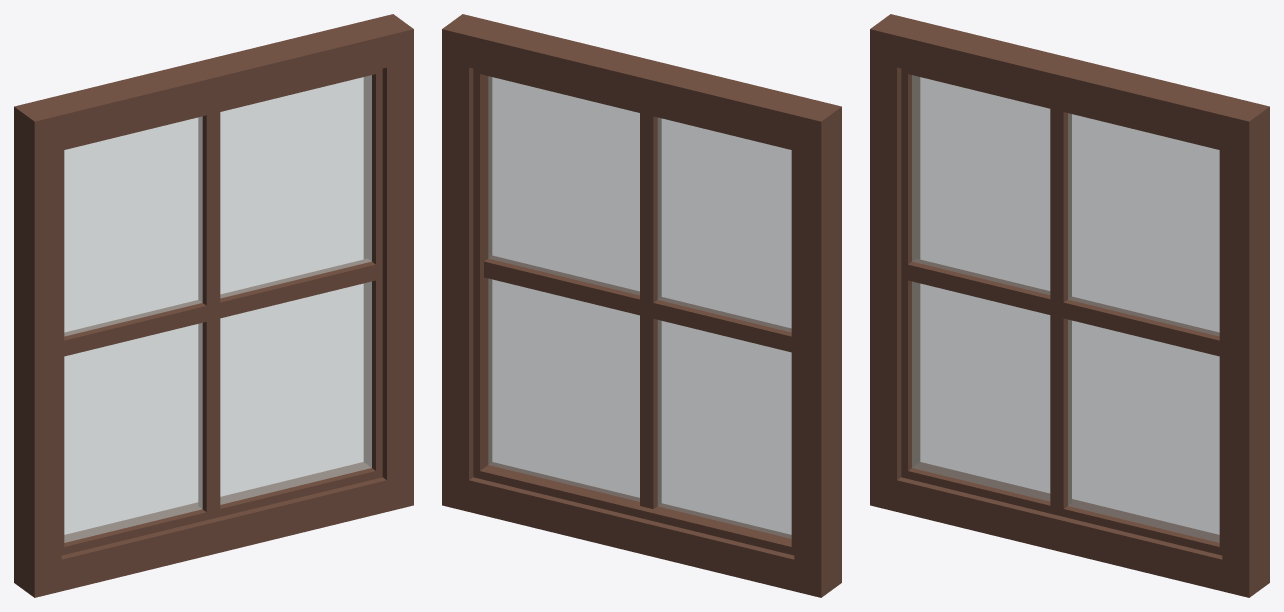
File: window-wood.glb
The picture shows the model from 3 angles, left to right: view 1: azimuth 30°, elevation 25°; view 2: azimuth 150°, elevation 25°; view 3: azimuth 330°, elevation 25°; orthographic projection.
Visible parts, largest first — view 1: body; view 2: body; view 3: body.
Part boxes in pixels (<box>): body: <box>14,14,413,597</box>; body: <box>442,14,841,597</box>; body: <box>870,14,1269,597</box>.
Bounding box in the file's own units: 1 × 1.2 × 0.0945.
